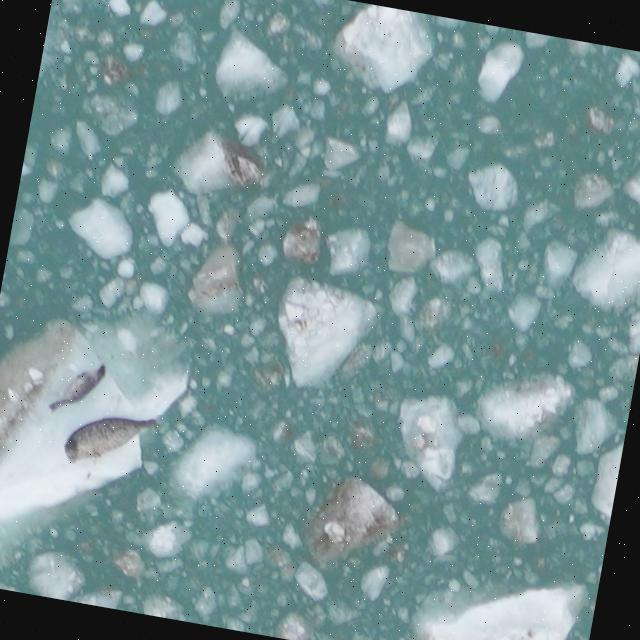seal: (57, 400, 162, 479), (42, 353, 109, 422)
